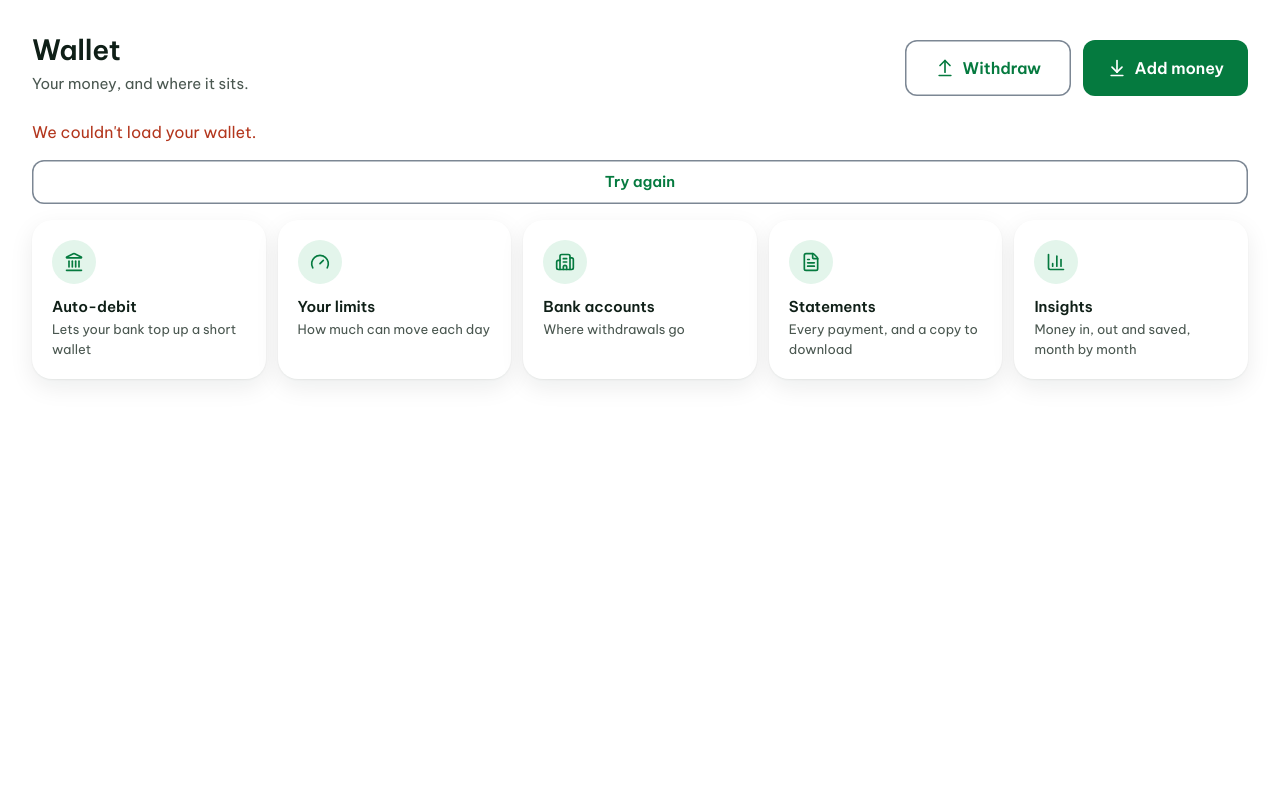
Test: WalletScreen › says so when it cannot load, and tries again when asked
Expected: the message reads "We couldn't load your wallet.", [32,122,256,142]
Step 1. Click the button "Try again" → (640, 182), box [32,160,1248,204]
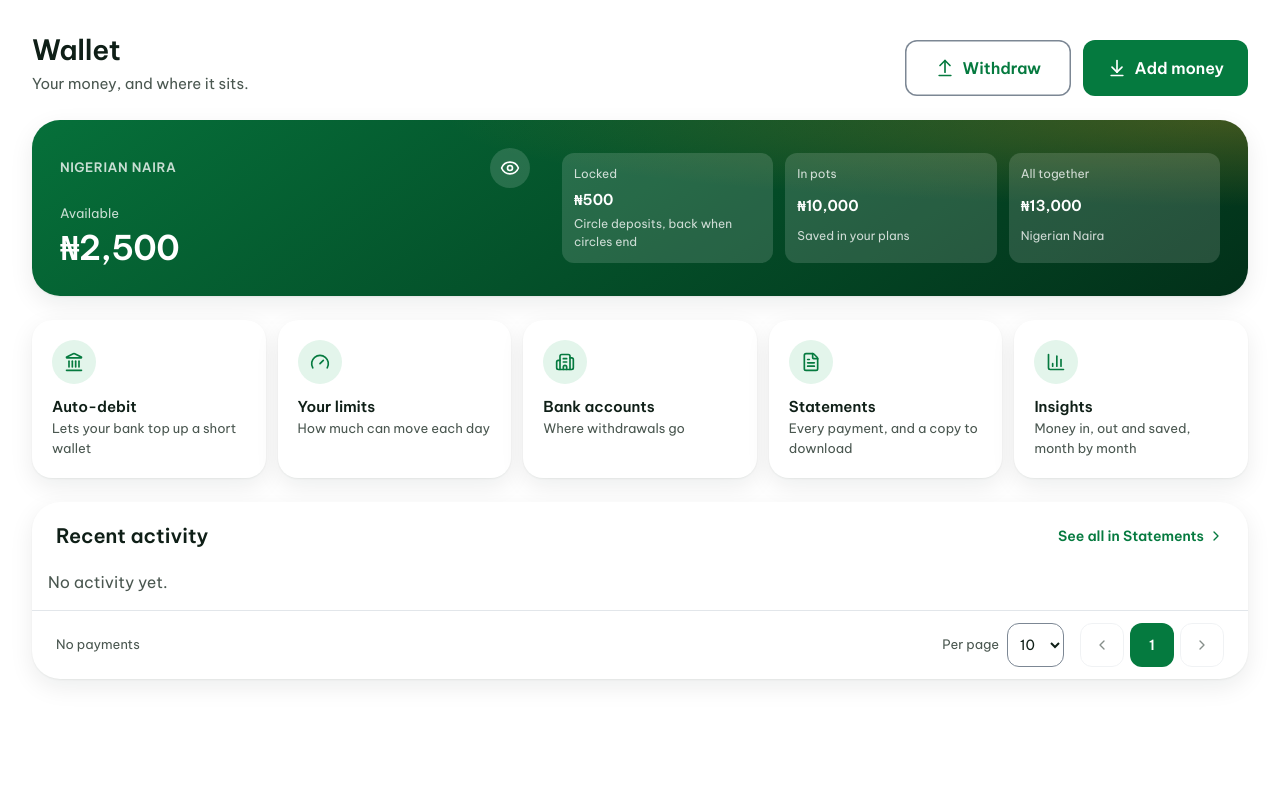
Result: the element named "Nigerian Naira wallet" is shown at [32,120,1248,296]
Result: the message "We couldn't load your wallet." is gone
